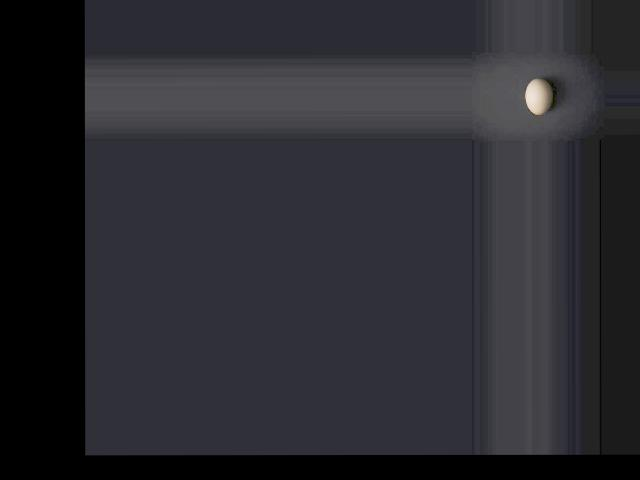egg: (524, 77, 551, 115)
